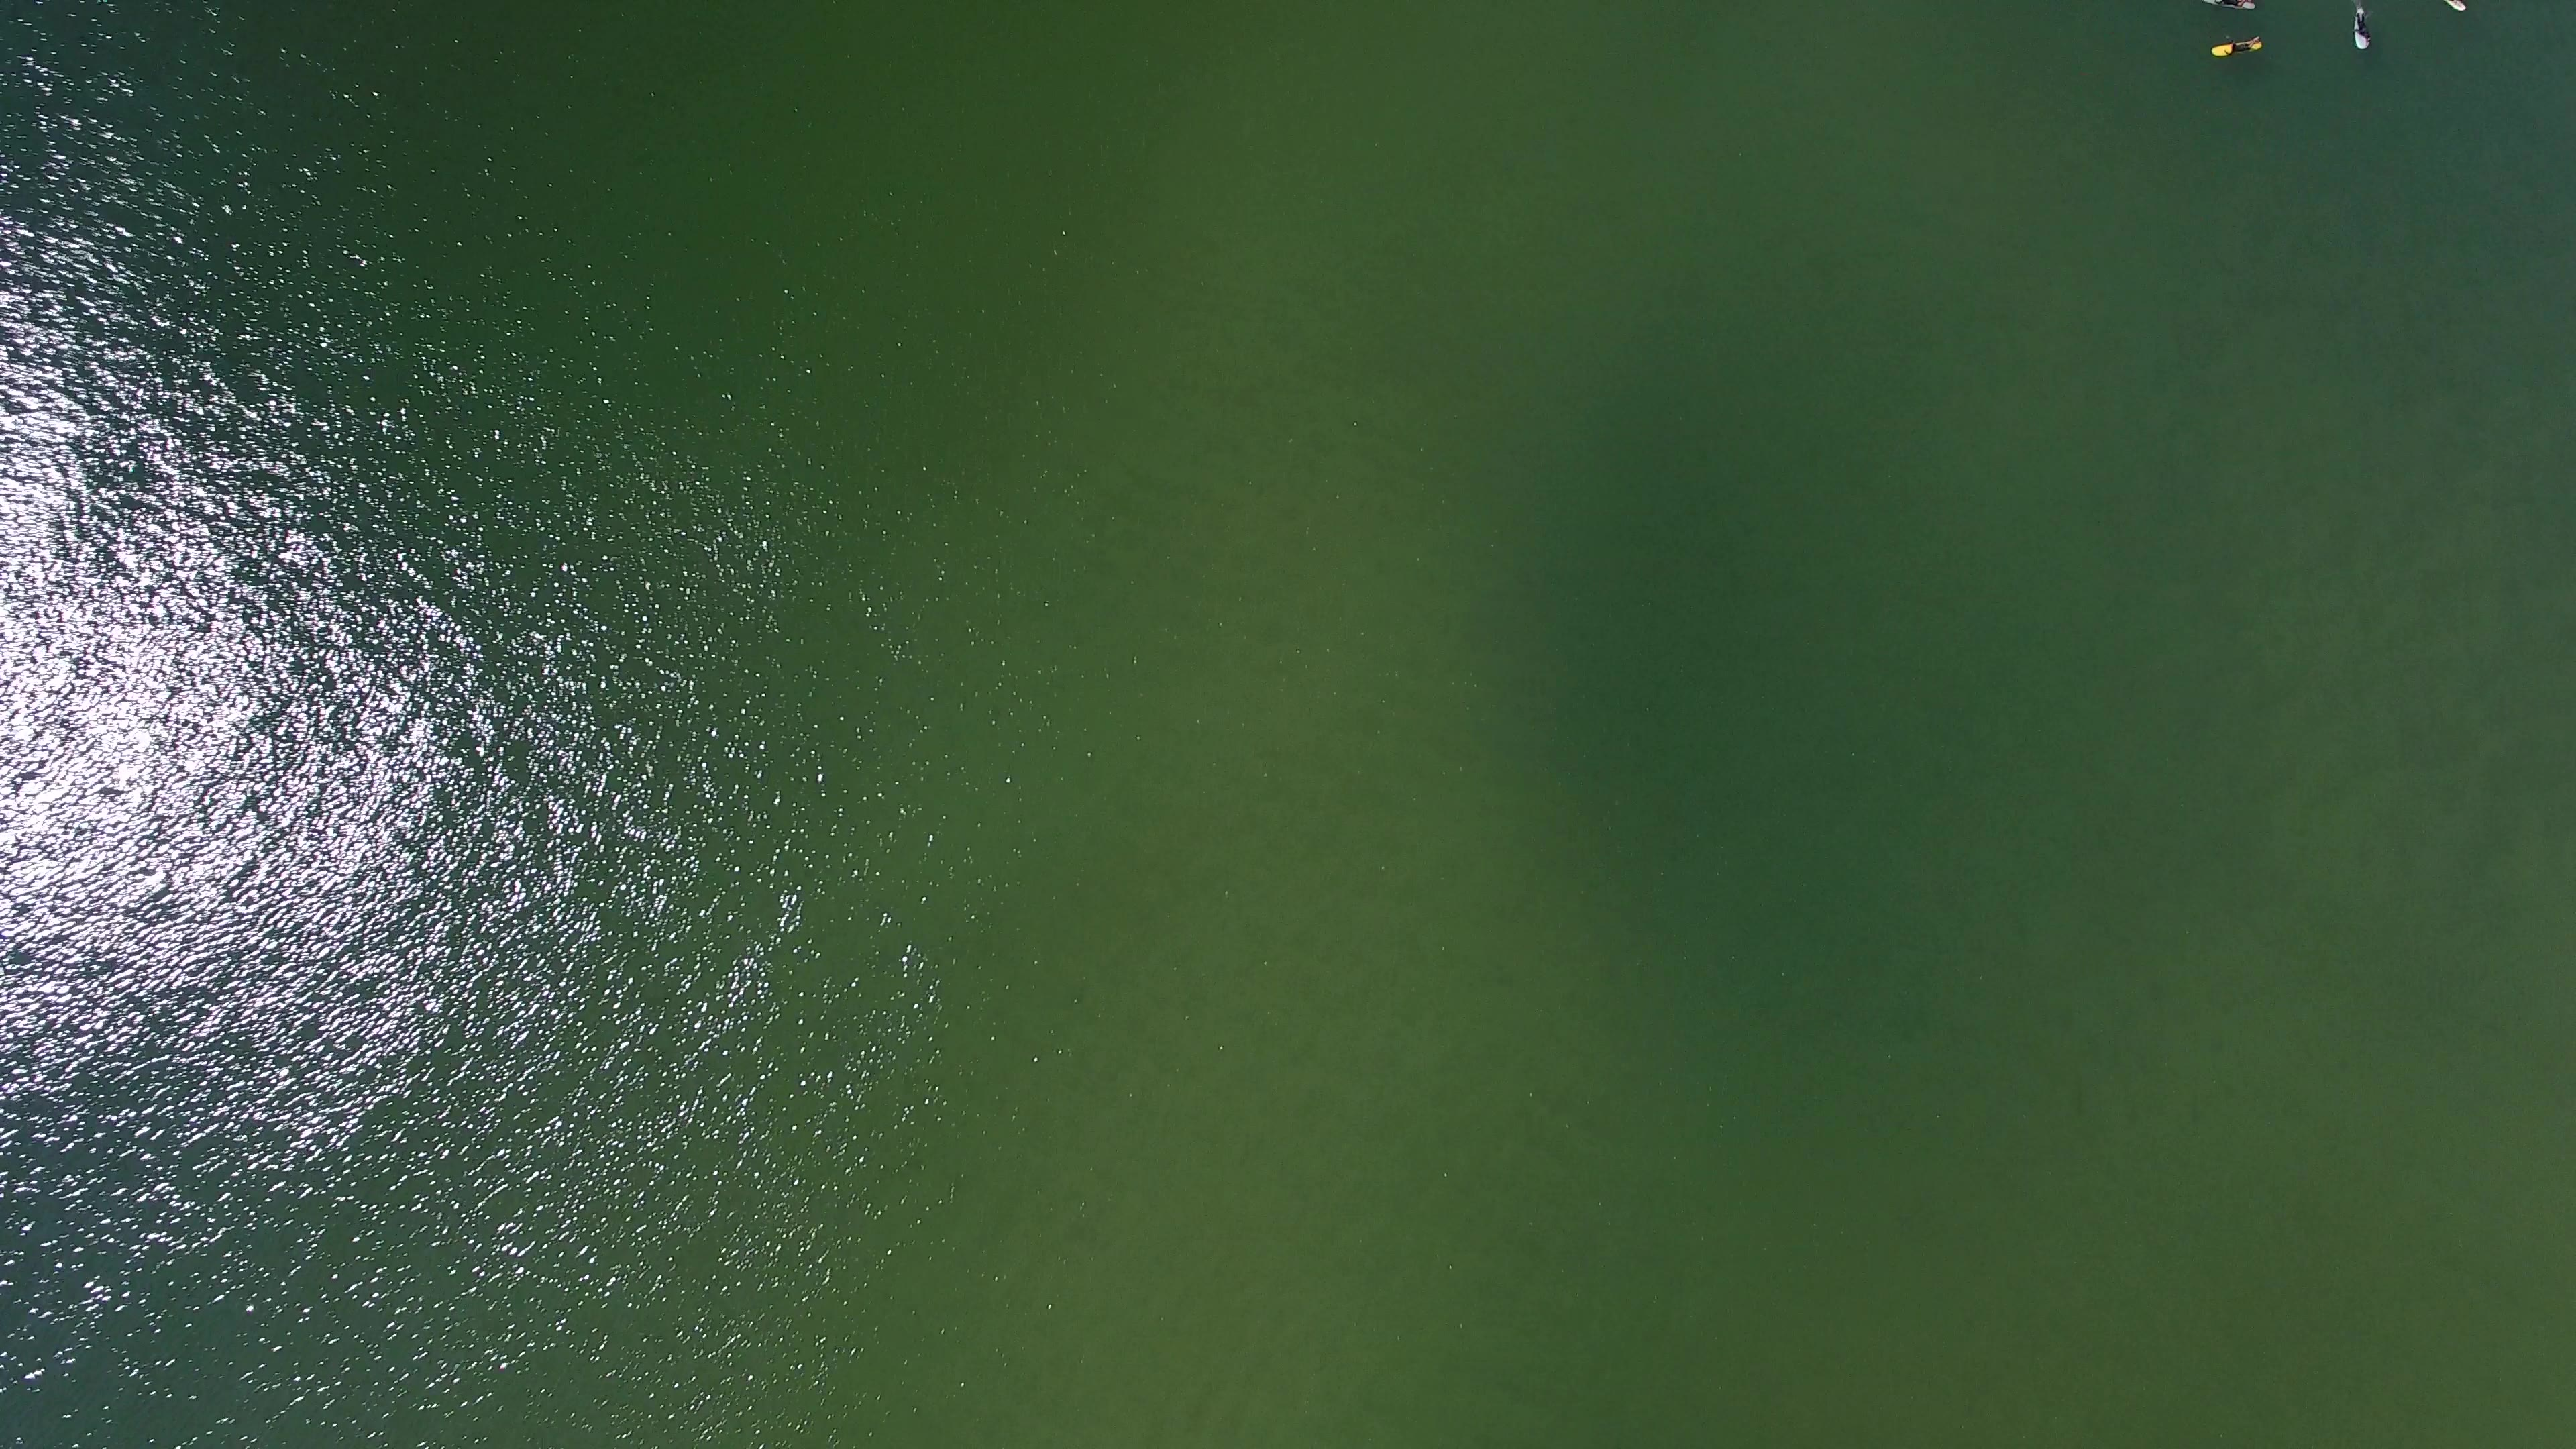surfer: (2346, 0, 2383, 55), (2212, 34, 2272, 64), (2192, 0, 2259, 16), (2449, 0, 2472, 16)
